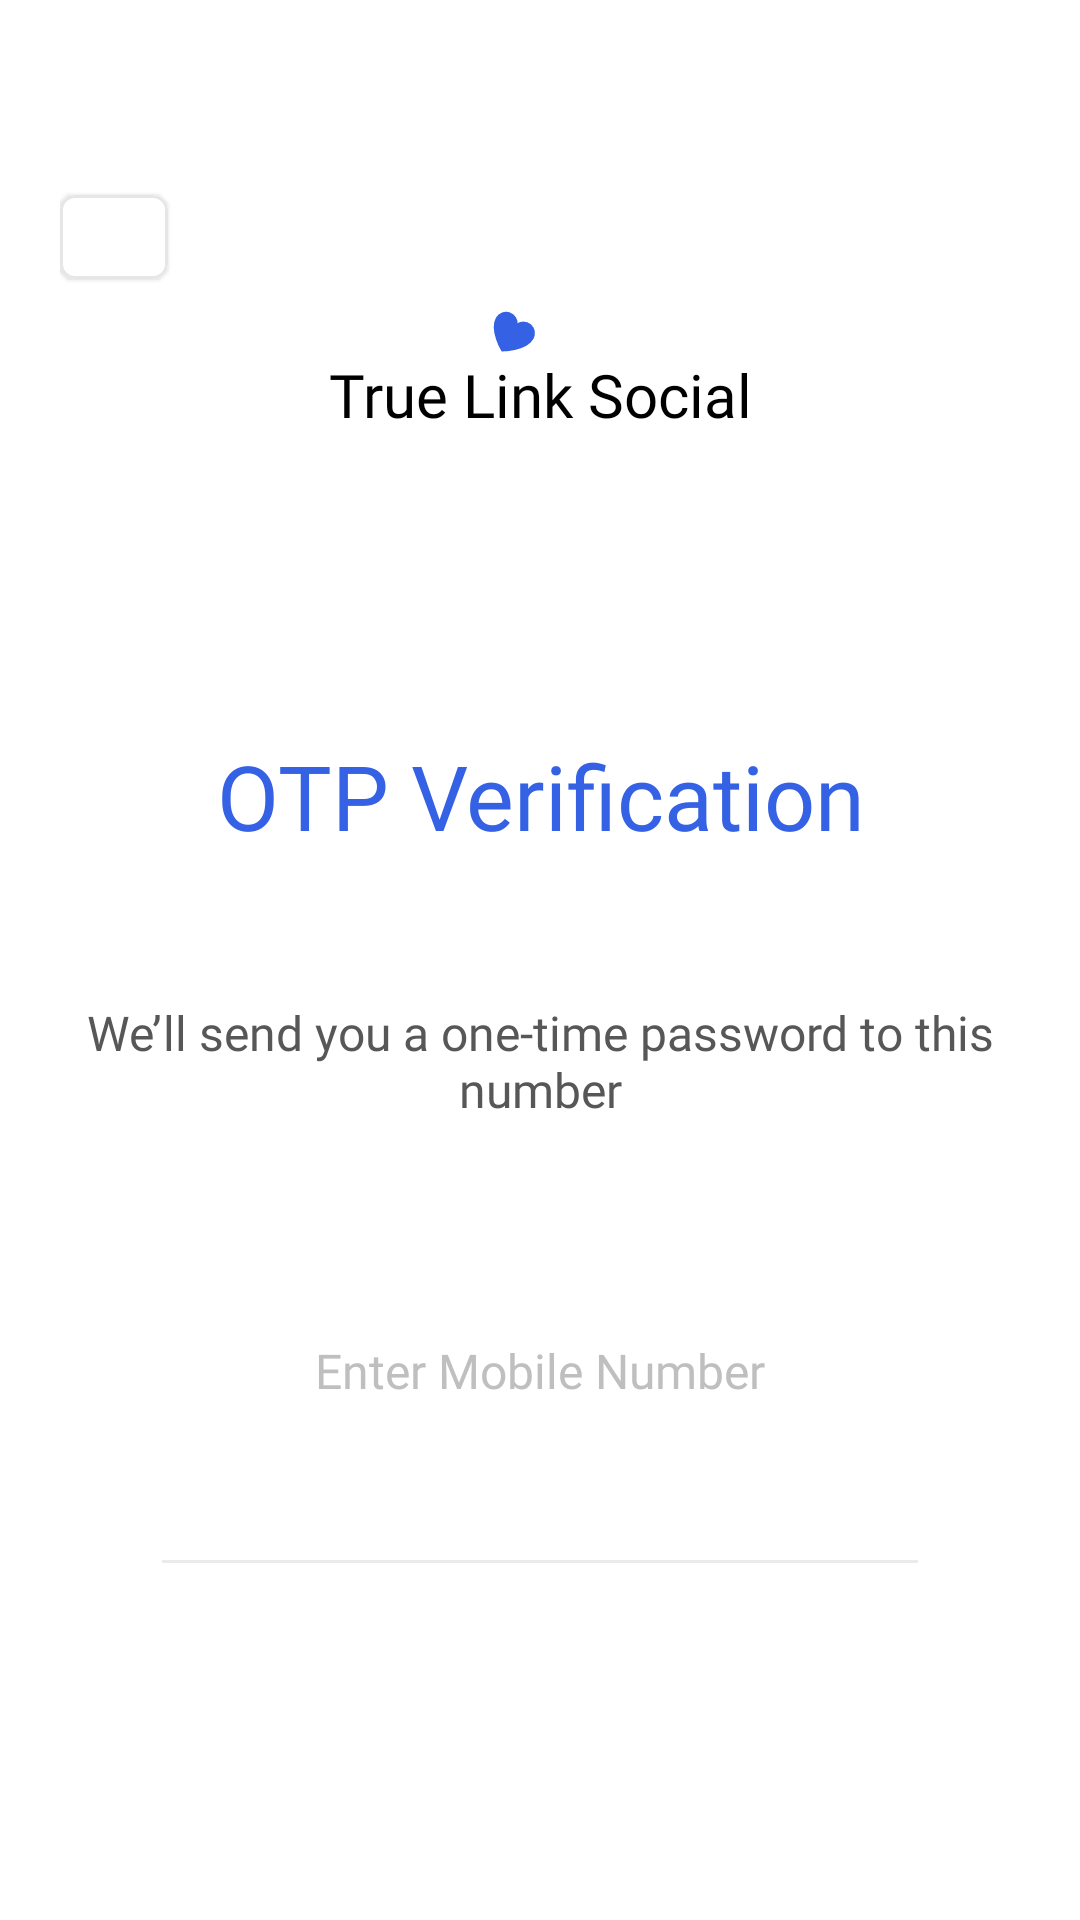

Icon bounding boxes for this 1080 × 1920 phone screenshot, format (x1, y1, x2, y2):
heart: (493, 311, 535, 352)
